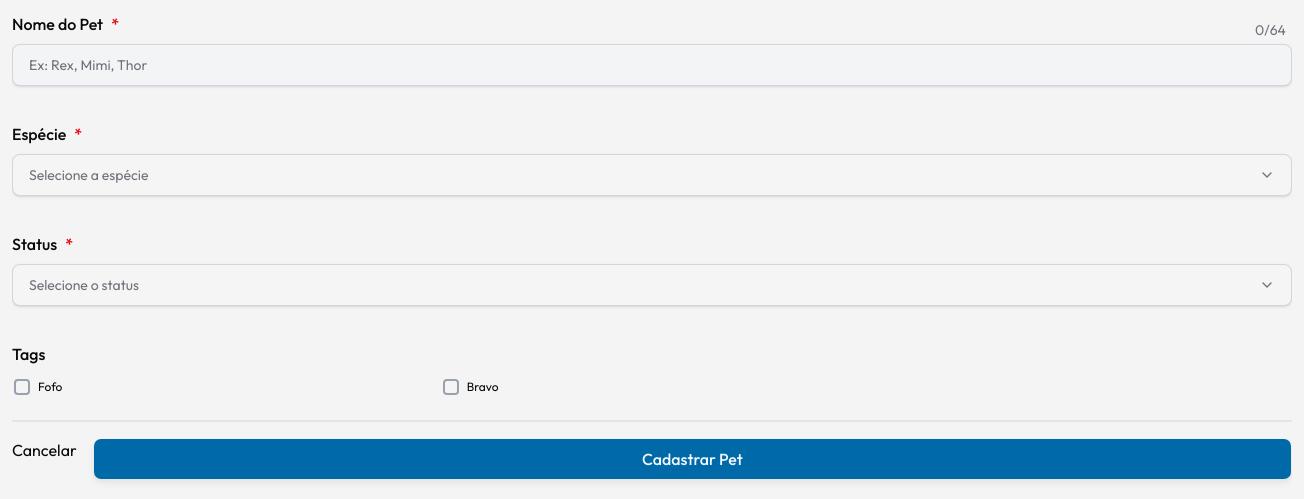
Test: PetForm › should display species options
Expected: the text "Selecione a espécie" is shown, [29, 165, 148, 185]
Click the dropdown with test id "select-specieId": (89, 175) [12, 154, 1292, 196]
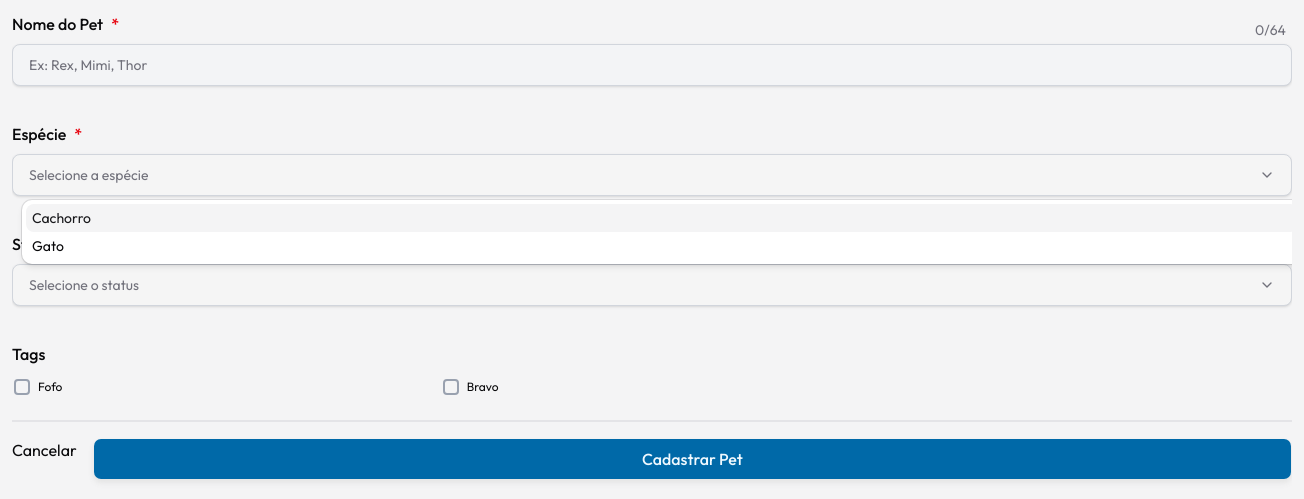
Expected: the text "Fofo" is shown, [38, 379, 62, 394]
Expected: the option "Gato" is shown, [32, 237, 64, 255]
